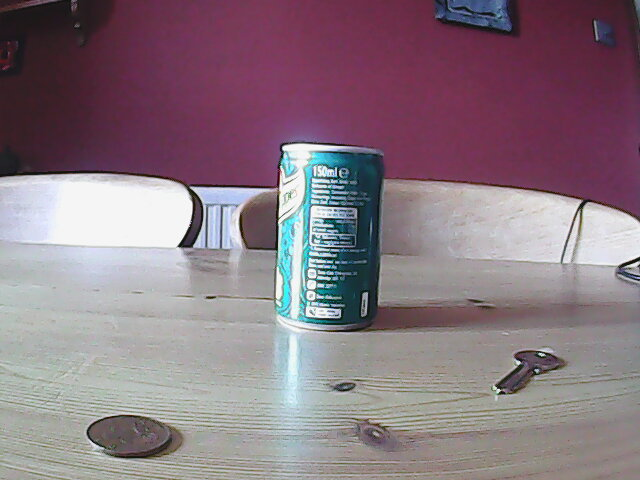Can: (269, 137, 383, 334)
Coin: (84, 413, 176, 461)
Key: (490, 348, 559, 401)
